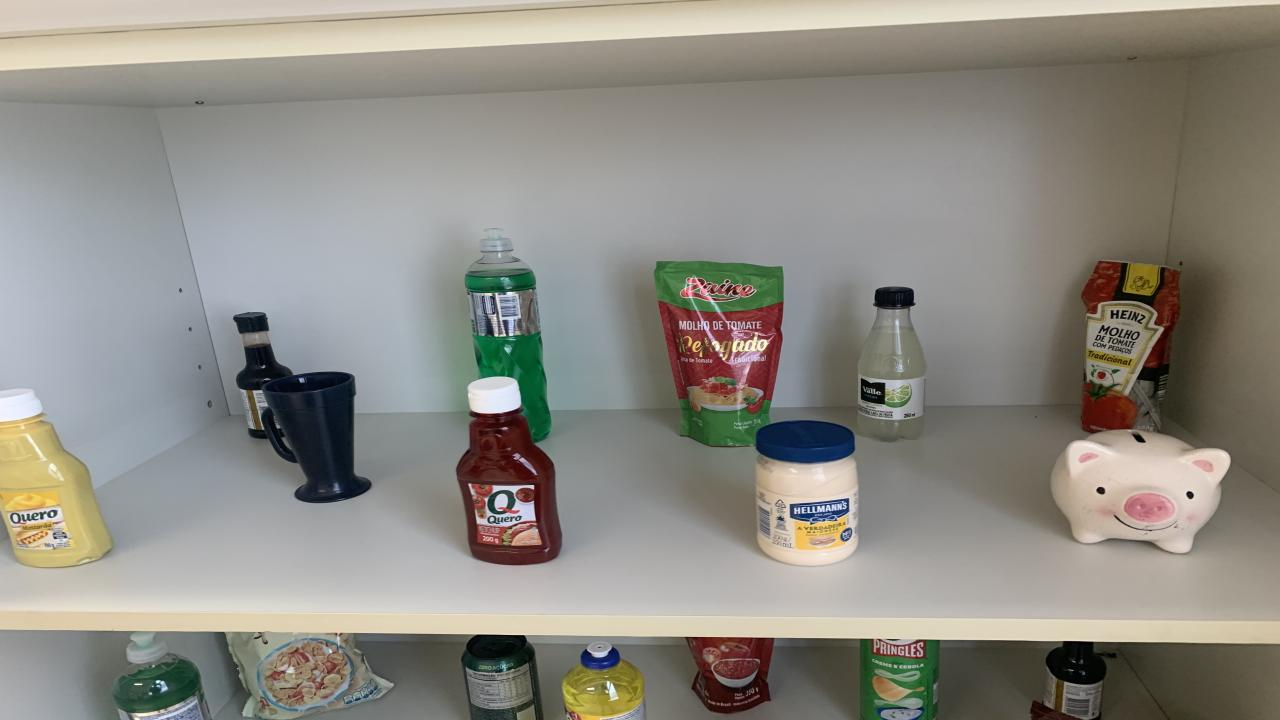Detergent-Cleanup_Items: (465, 229, 550, 441), (112, 632, 210, 720), (562, 641, 645, 720)
English_Sauce-Pantry_Items: (232, 311, 292, 439), (1045, 641, 1105, 720)
Flakes-Snacks: (225, 632, 392, 720)
Guarana_Can-Drinks: (462, 636, 542, 720)
Ketchup-Pantry_Items: (458, 377, 562, 564)
Mayonnaise-Pantry_Items: (755, 420, 858, 566)
Mustard-Pantry_Items: (0, 388, 112, 568)
Pig_Safe-Miscellaneous: (1050, 429, 1230, 553)
Pringles-Snacks: (860, 639, 940, 720)
Soda-Drinks: (858, 287, 925, 442)
Tomato_Sauce-Pantry_Items: (655, 262, 782, 446), (1082, 261, 1180, 431), (688, 638, 775, 712)
